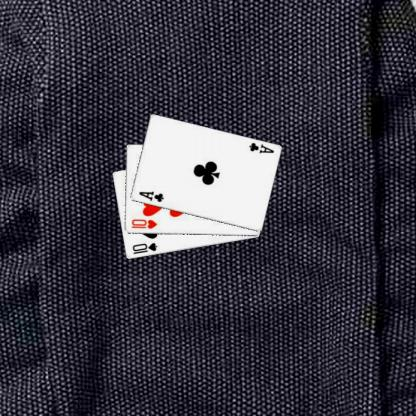10H: (129, 217, 158, 230)
10S: (130, 240, 158, 256)
AC: (136, 189, 165, 204), (245, 140, 274, 155)
